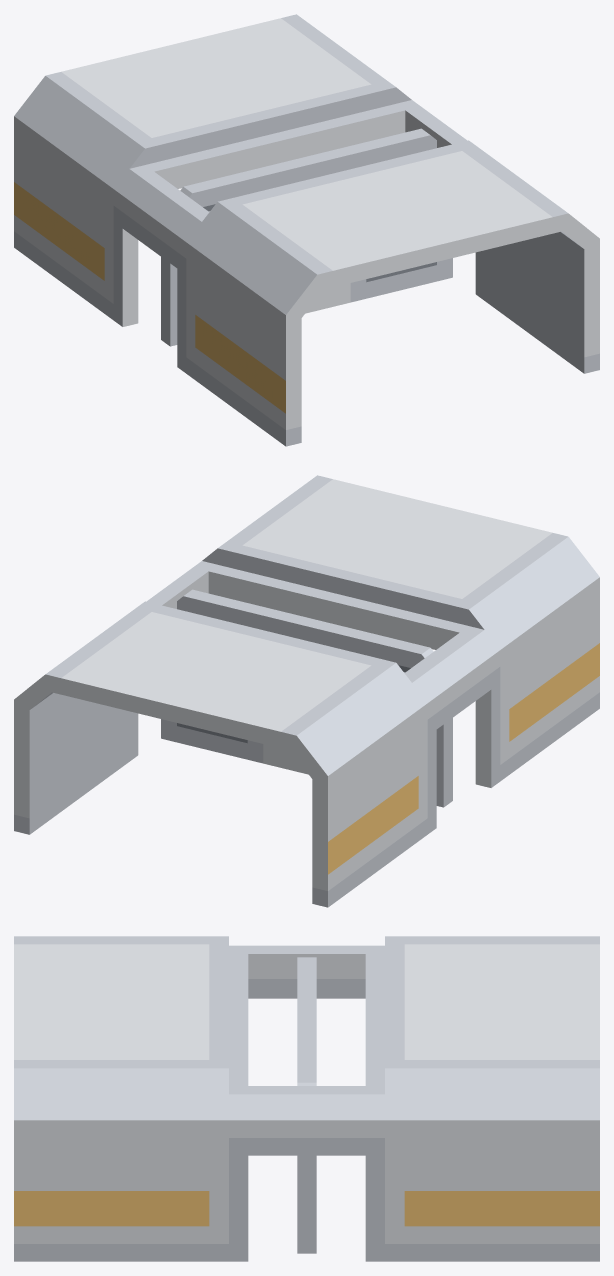
File: station_hub_placeholder.glb
3 renders of one model, top to bottom at view 1: azimuth 30°, elevation 25°; view 2: azimuth 150°, elevation 25°; view 3: azimuth 270°, elevation 25°, orthographic. The views are drawn at different scales.
Visible parts, largest first — view 1: hangar_largeA, gate (×2); view 2: hangar_largeA, gate (×2); view 3: hangar_largeA, gate (×2).
Boxes of the visible parts, box(x1,y1,x2,y2) form: hangar_largeA: box(14, 14, 599, 446); gate (×2): box(161, 128, 452, 346); hangar_largeA: box(14, 475, 599, 907); gate (×2): box(161, 589, 452, 807); hangar_largeA: box(14, 936, 599, 1261); gate (×2): box(297, 957, 316, 1253).
Size of the model in its own units: 2 by 1 by 3.
